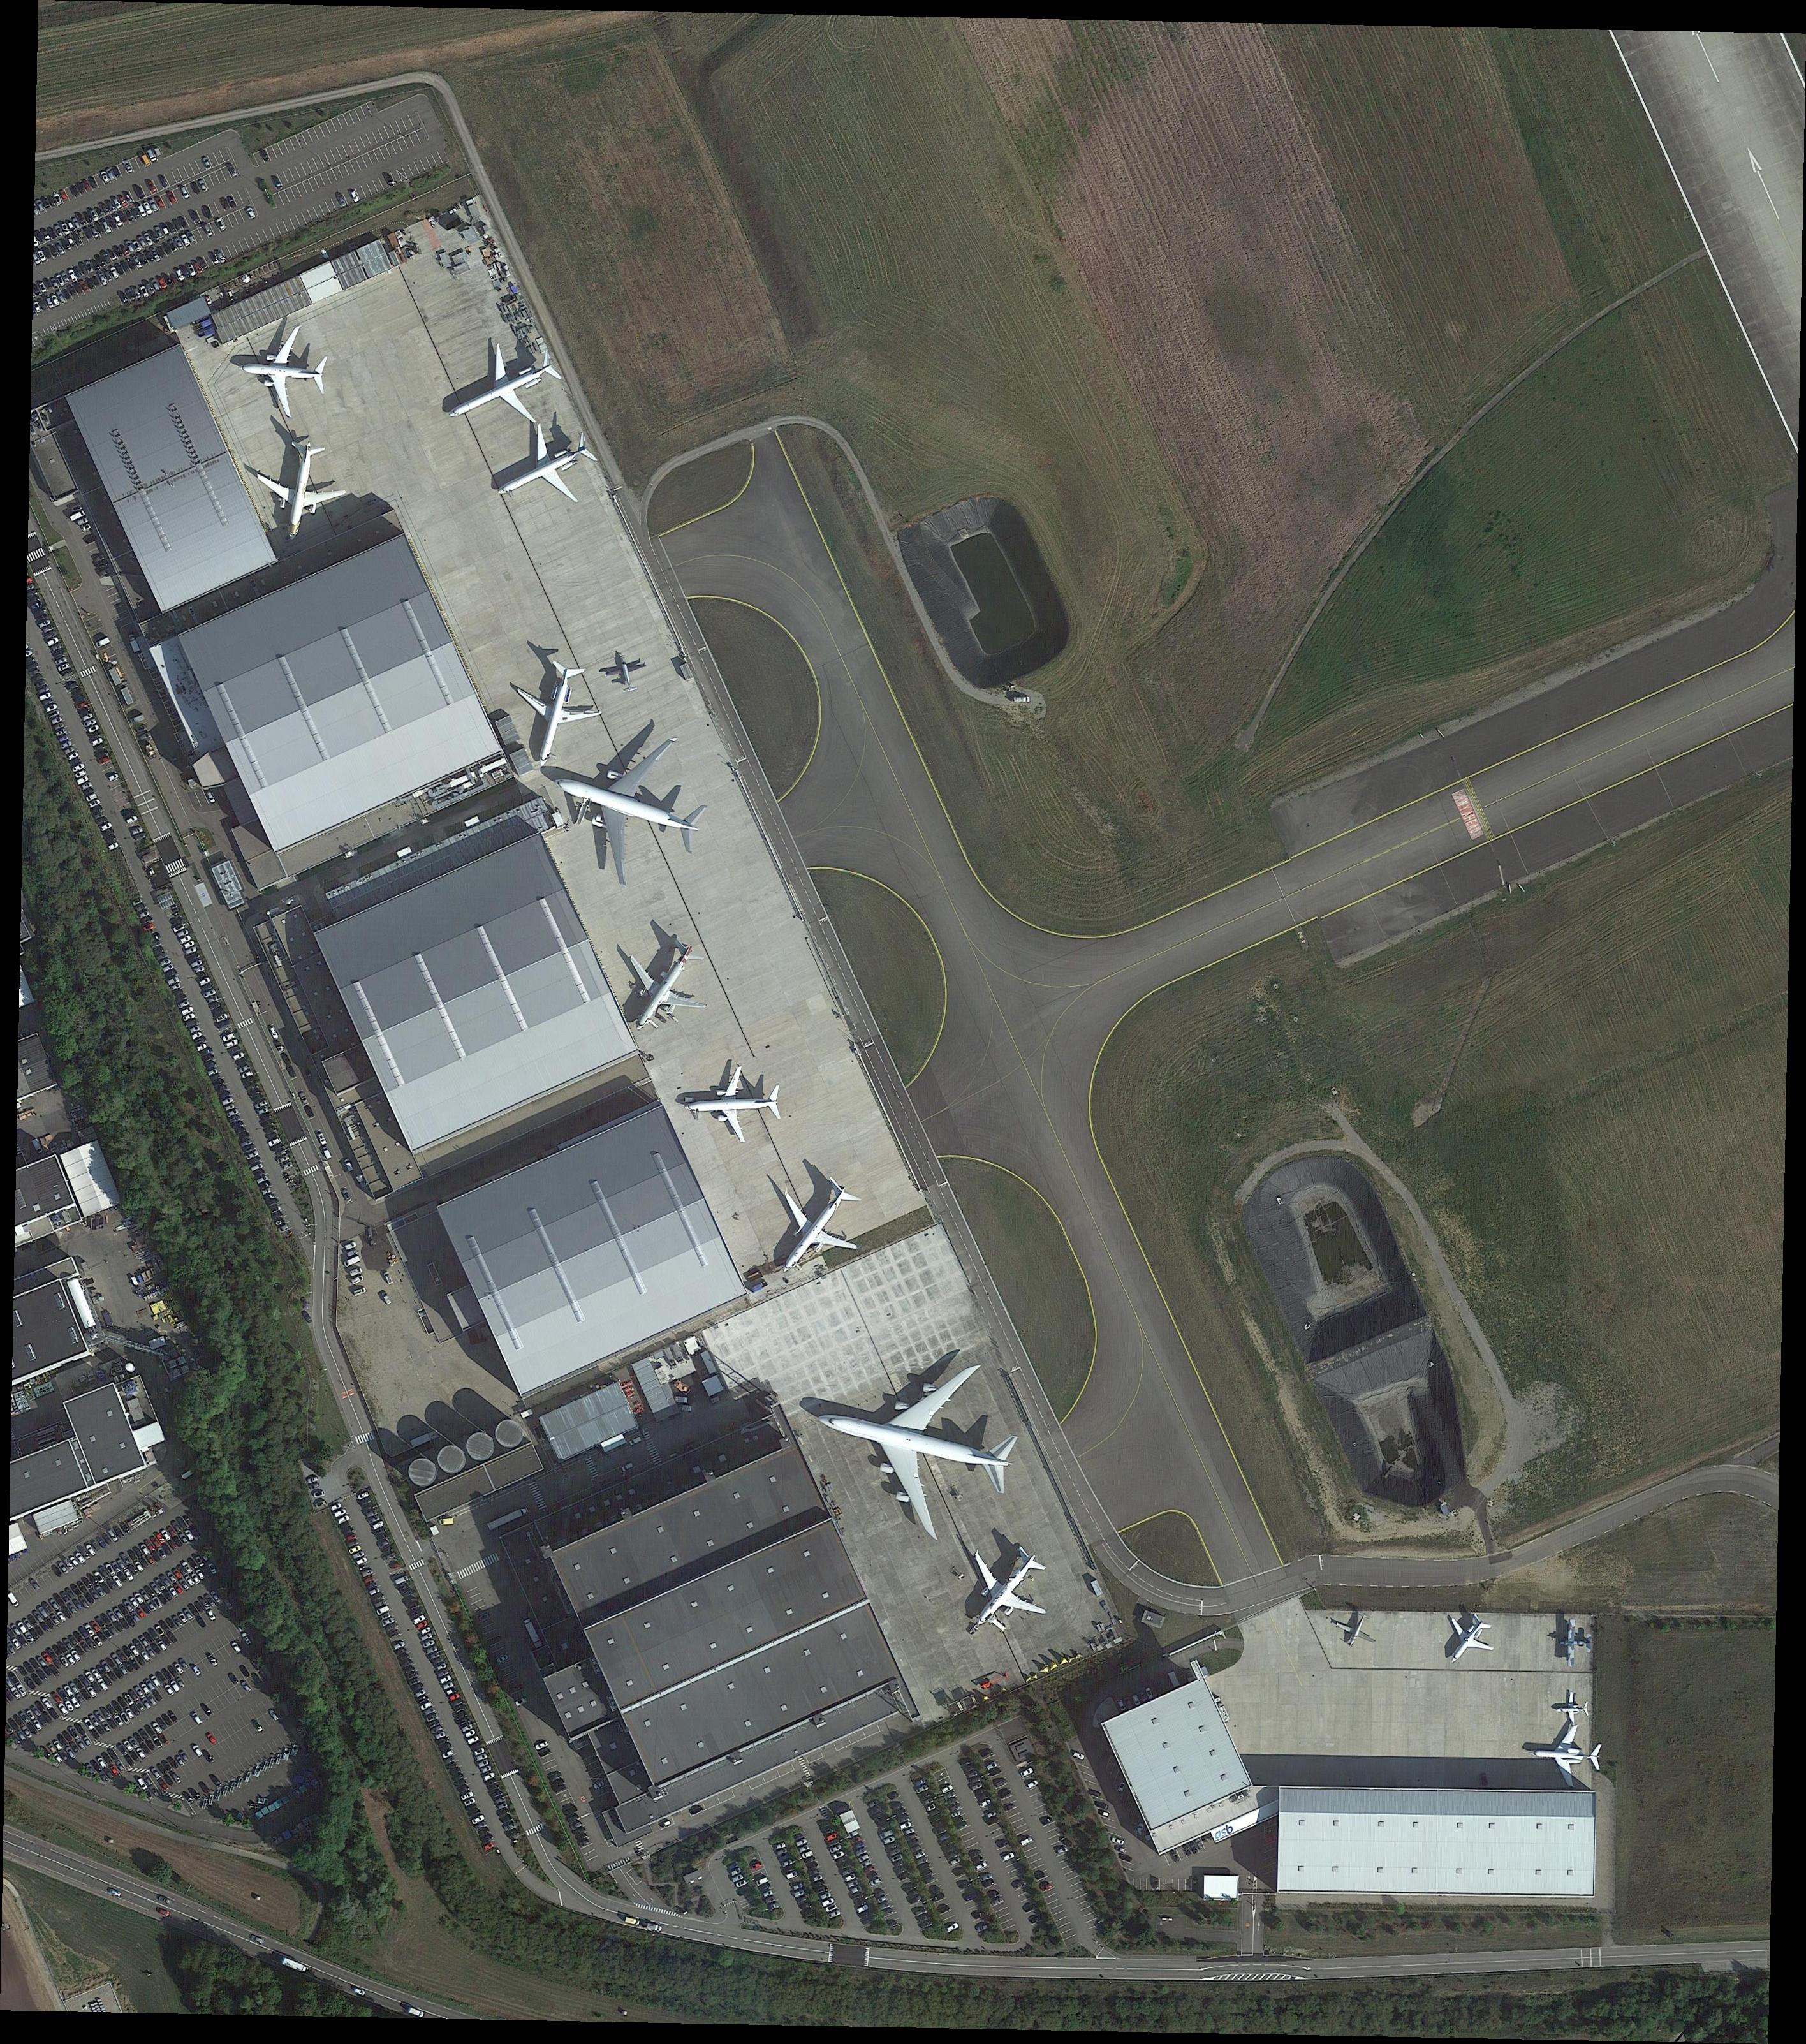plane: (779, 1328, 1056, 1554), (518, 709, 741, 910), (924, 1507, 1079, 1661), (425, 315, 582, 464), (739, 1157, 889, 1310), (589, 917, 734, 1059), (469, 403, 619, 538), (232, 430, 364, 565), (499, 645, 612, 779), (228, 317, 347, 432), (673, 1065, 790, 1148), (1422, 1594, 1513, 1683), (1518, 1722, 1611, 1791), (1316, 1593, 1393, 1664), (598, 641, 655, 697), (1551, 1619, 1597, 1673), (1548, 1692, 1599, 1732)
